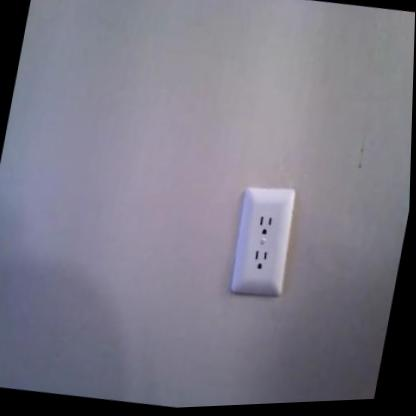OUTLET: (229, 181, 297, 299)
